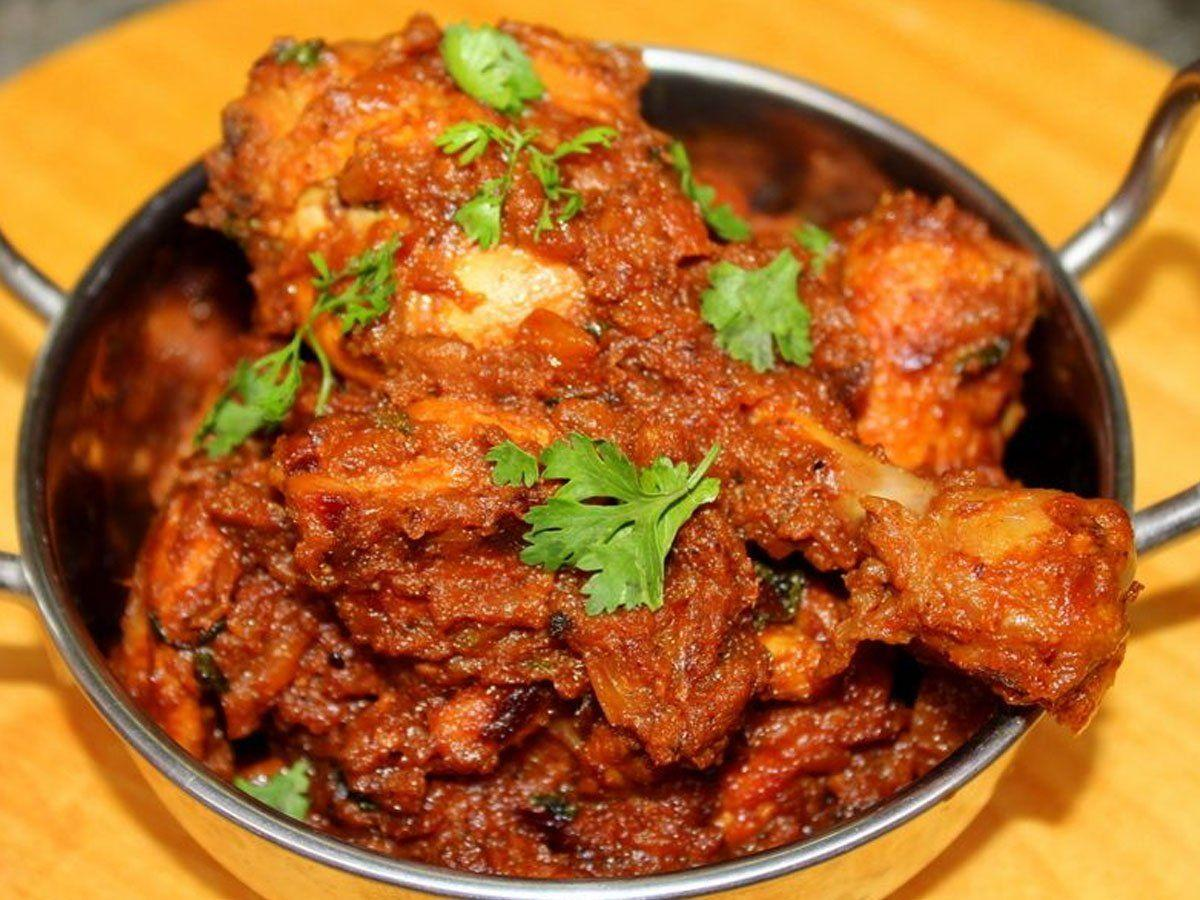chicken: (48, 69, 1135, 860)
